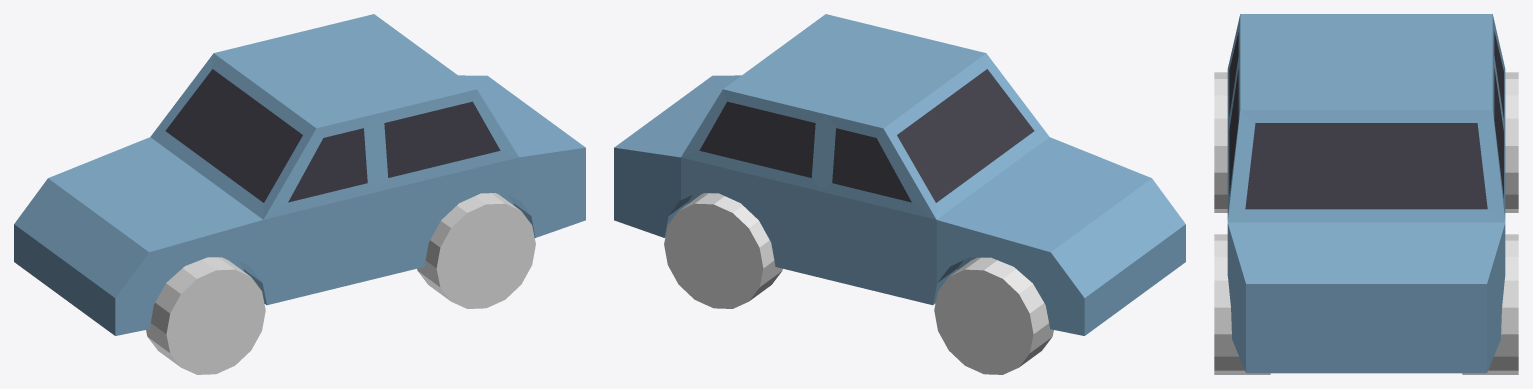
Rendered from LowPolyCar_Unity_01.fbx.
3 renders of one model, left to right at view 1: azimuth 30°, elevation 25°; view 2: azimuth 150°, elevation 25°; view 3: azimuth 270°, elevation 25°, orthographic. The views are drawn at different scales.
Visible parts, largest first — view 1: Cube, Cylinder, Cylinder.002; view 2: Cube, Cylinder.001, Cylinder.003; view 3: Cube, Cylinder.002, Cylinder.003, Cylinder, Cylinder.001.
Boxes of the visible parts, <box> form: Cube: <box>14,14,585,335</box>; Cylinder: <box>146,257,265,374</box>; Cylinder.002: <box>417,193,535,308</box>; Cube: <box>614,14,1185,335</box>; Cylinder.001: <box>934,257,1053,374</box>; Cylinder.003: <box>664,193,782,308</box>; Cube: <box>1227,14,1505,373</box>; Cylinder.002: <box>1214,234,1270,374</box>; Cylinder.003: <box>1462,234,1518,374</box>; Cylinder: <box>1214,72,1227,212</box>; Cylinder.001: <box>1505,72,1518,212</box>.
Size of the model in its own units: 572 by 244 by 260.
